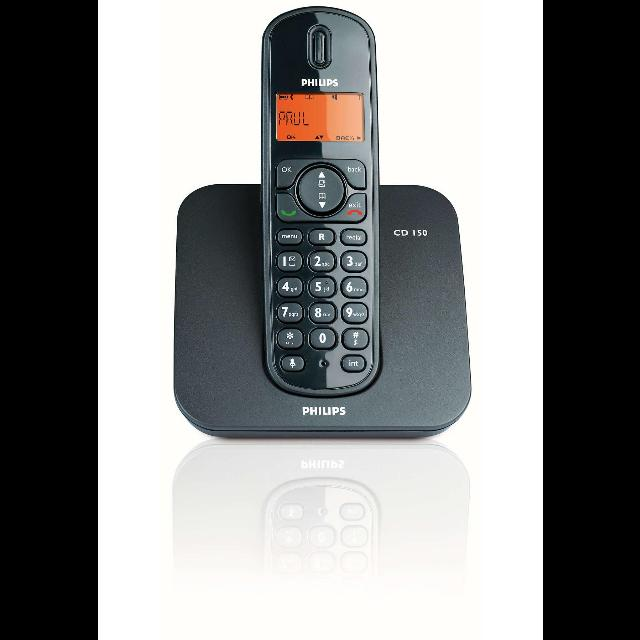Telephone-Set: (188, 21, 440, 430)
